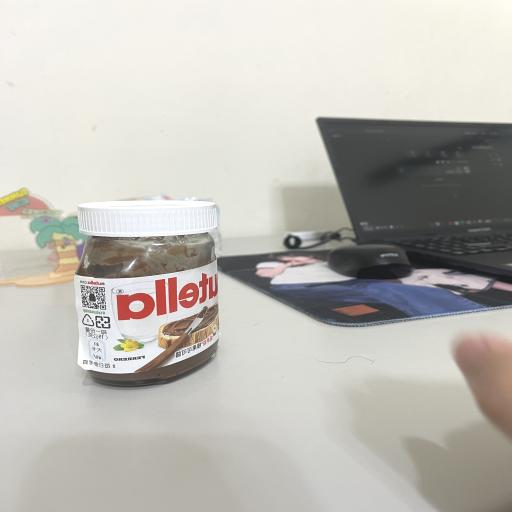chocolate_jar: (75, 201, 220, 386)
